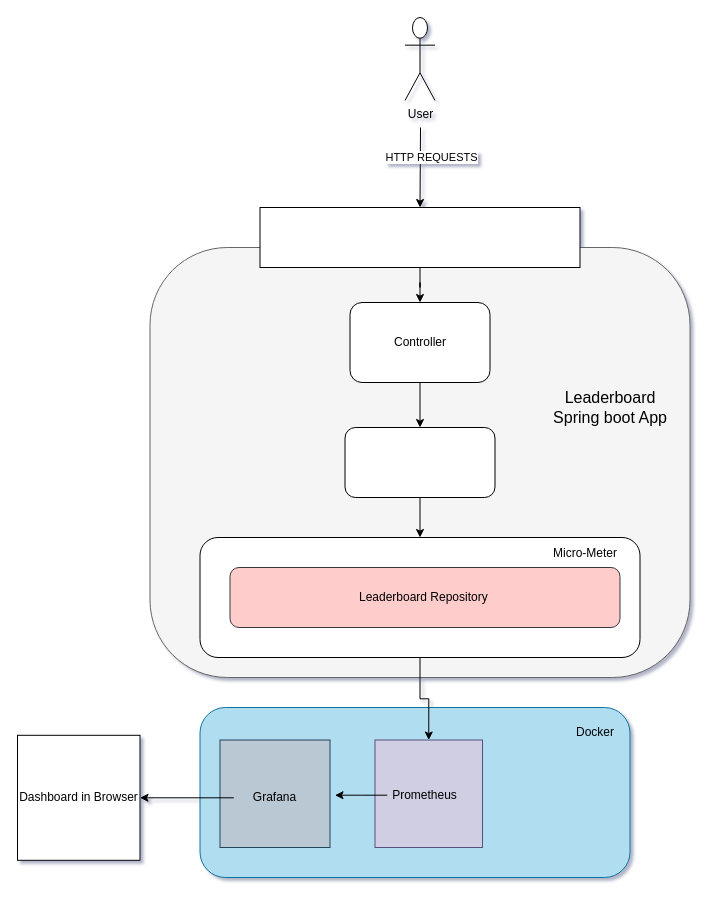
Image size: 714x901. Some labels were removed from this diagram. Here are the shapes that lost their labels. From the top down, the box of each, then its label:
(259, 206, 580, 268): API Endpoints
(344, 426, 495, 498): Service
